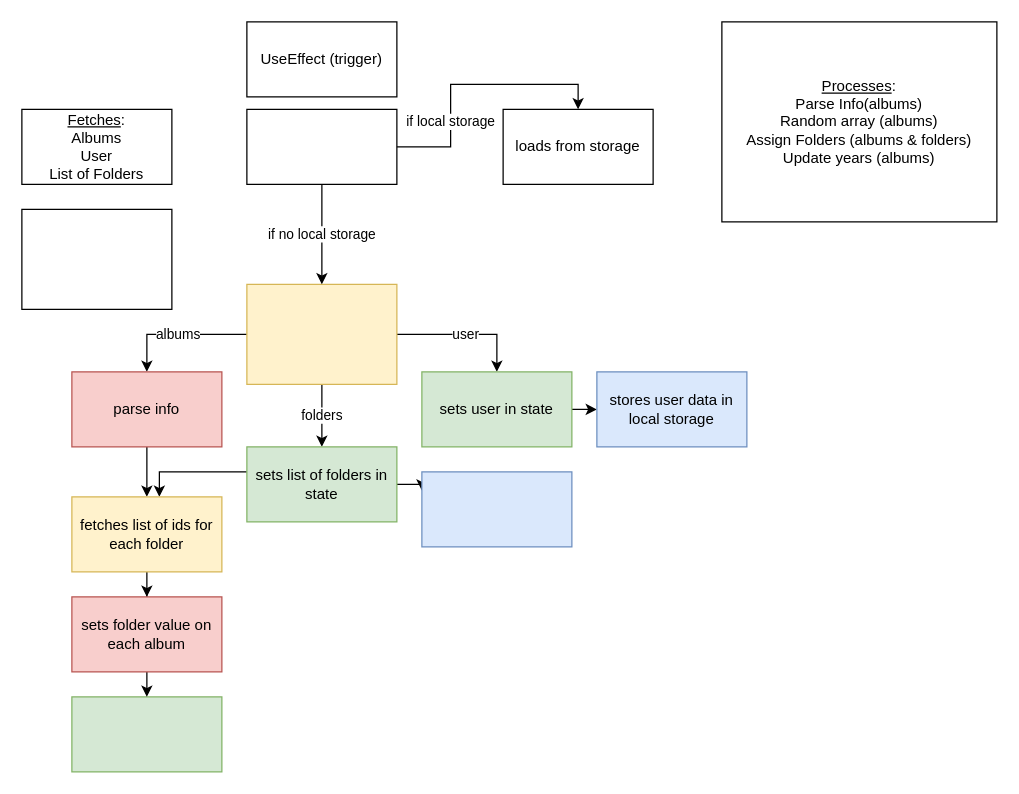
This 1019x794 diagram has some shape labels left out. The centre of each missing label's shape, as x and y in pixels:
Check local storage (component mounts): pixel 321 146
Initial Fetch 1 (component mounts) fetches albums, user, and list of folders: pixel 321 333
sets albums in state: pixel 146 734
Storage : Albums User List of Folders Listen Events: pixel 96 258
stores list of folders in local storage: pixel 496 509
